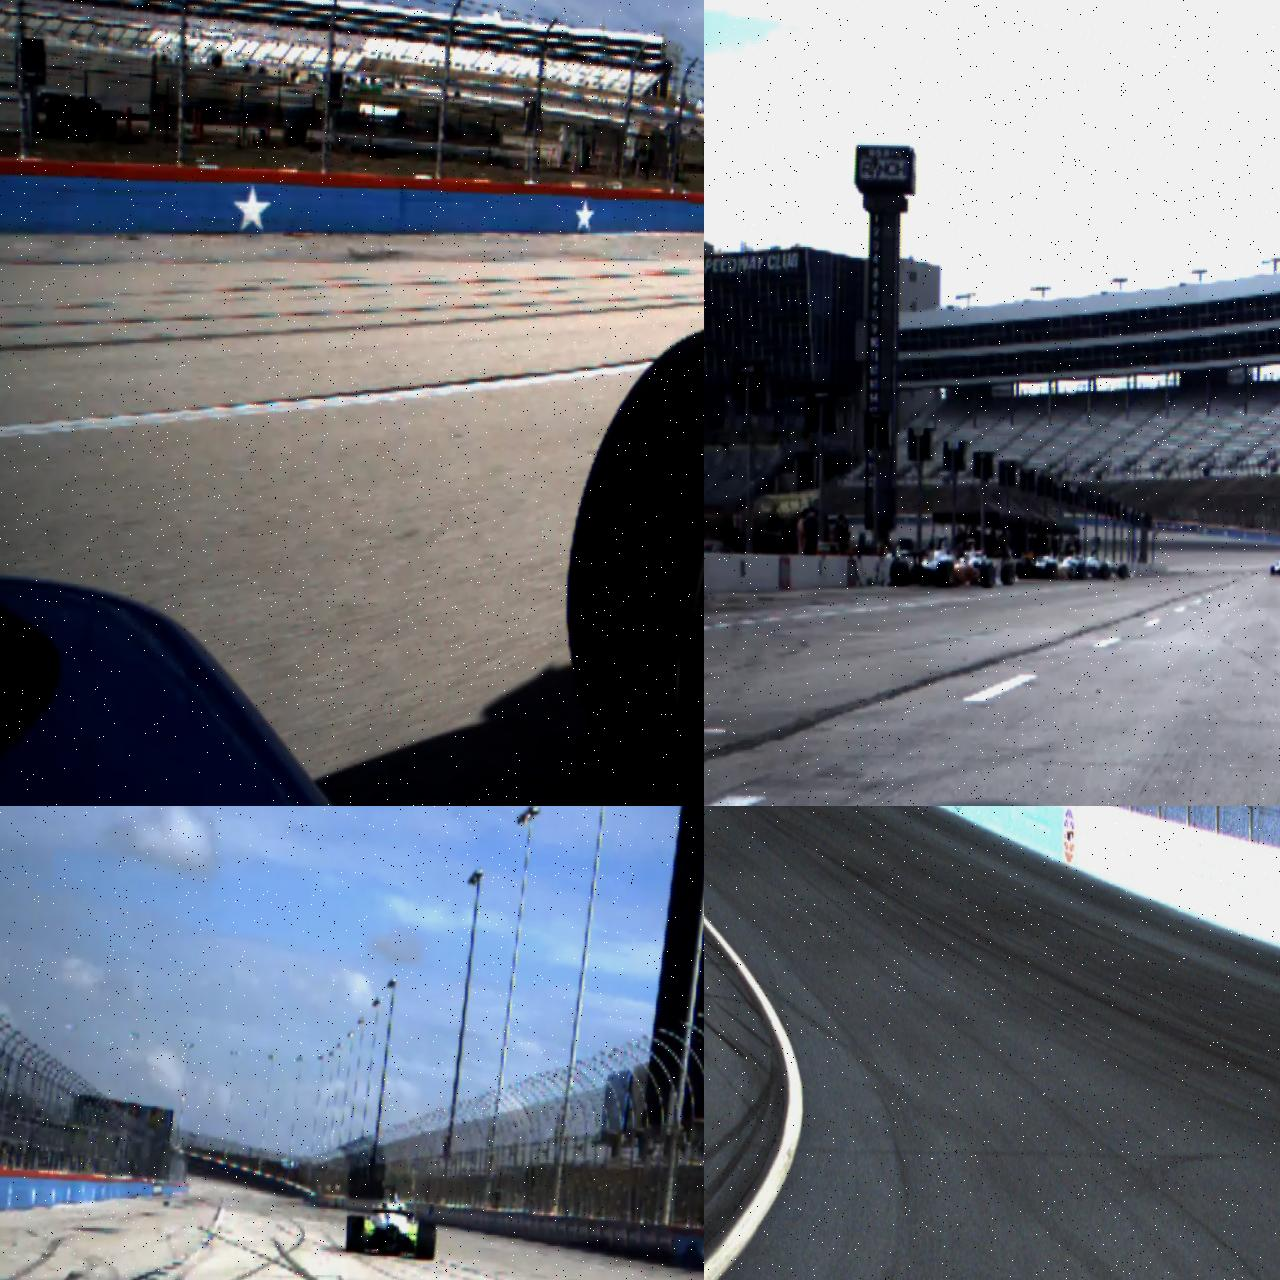AV: (345, 1183, 437, 1261), (890, 535, 996, 588), (1270, 557, 1280, 576)
Wheel: (563, 316, 704, 806), (417, 1218, 436, 1260), (346, 1215, 364, 1253), (890, 560, 910, 586), (938, 560, 954, 587), (980, 562, 996, 588), (1001, 562, 1014, 584), (1046, 562, 1057, 580), (1076, 563, 1086, 579), (1100, 563, 1110, 579), (1118, 563, 1128, 579), (1270, 564, 1274, 576)
